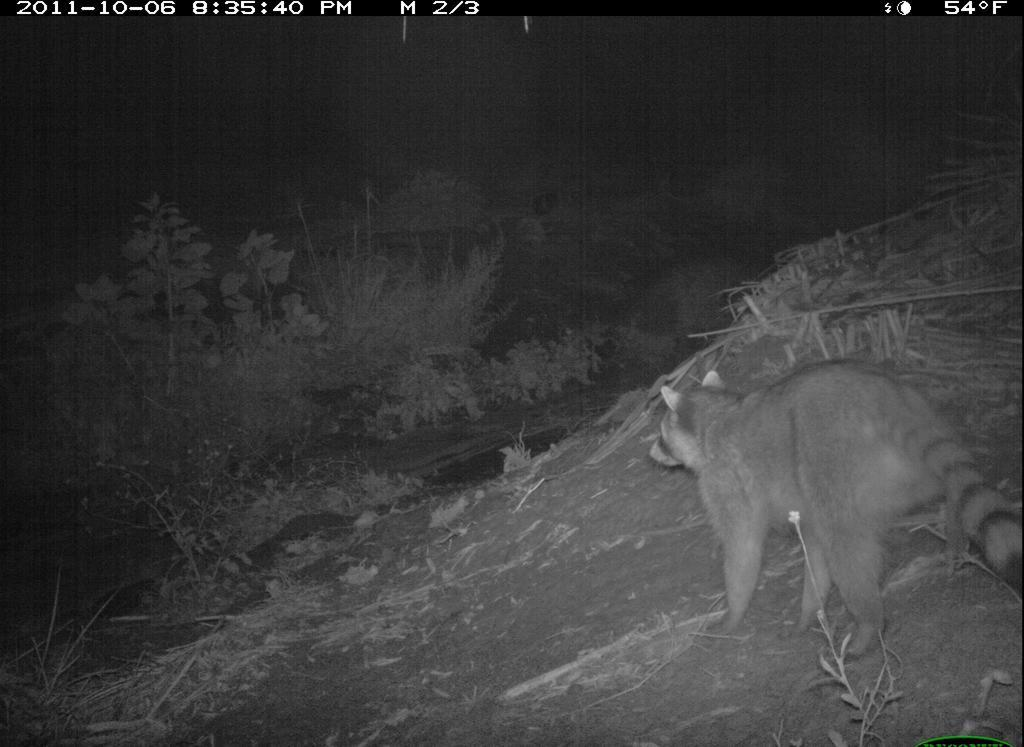raccoon: (619, 337, 1022, 651)
